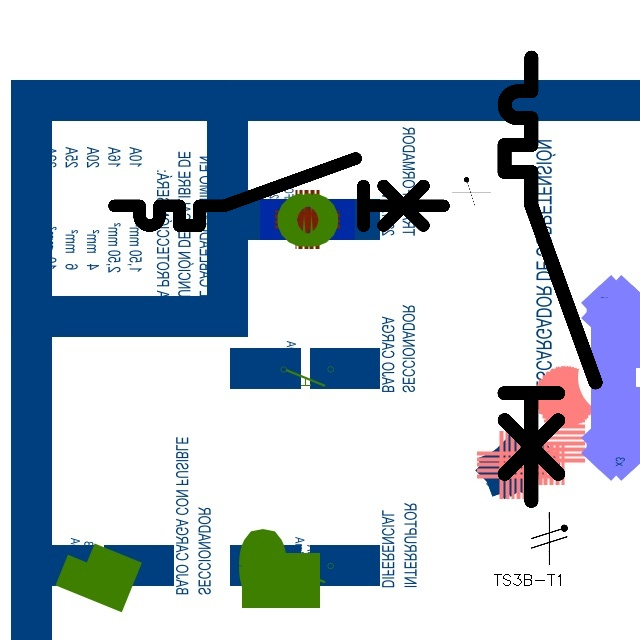interruptor_termomagnetico: (493, 46, 607, 512), (106, 150, 451, 234)
